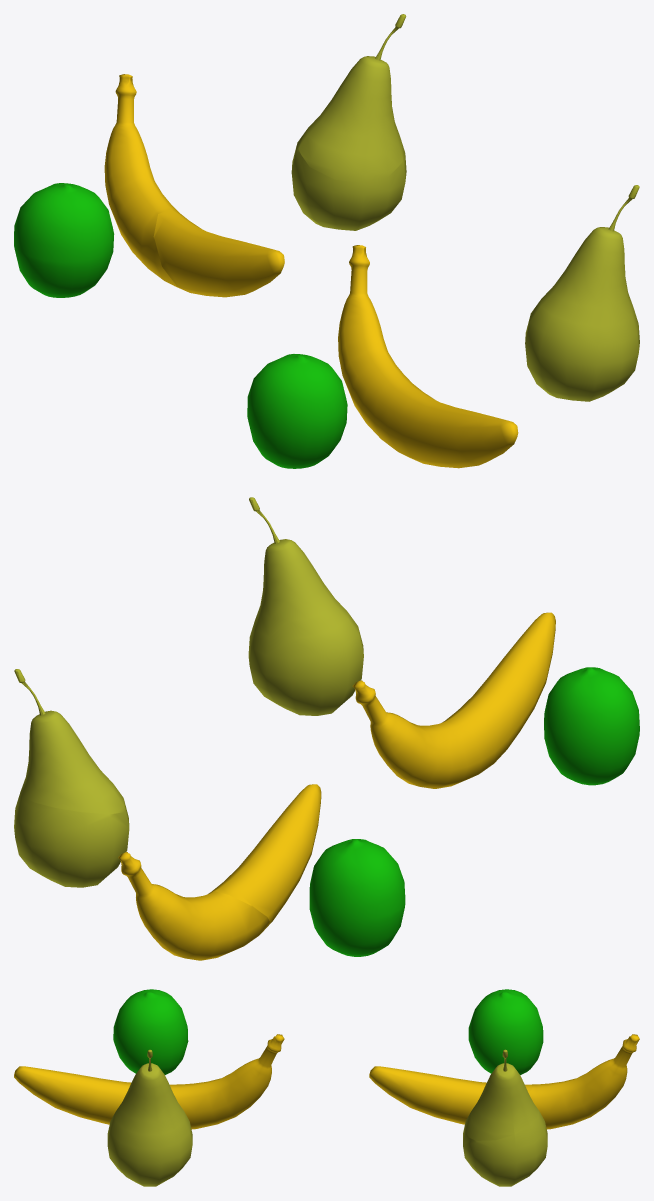
File: Fruits.FBX
3 renders of one model, top to bottom at view 1: azimuth 30°, elevation 25°; view 2: azimuth 150°, elevation 25°; view 3: azimuth 270°, elevation 25°, orthographic. The views are drawn at different scales.
Parts seen in each view (by area): view 1: pear, banana, lemon, pear Slice2, banana Slice2, banana Slice1, lemon Slice1, pear Slice1, lemon Slice2; view 2: pear, banana, lemon, pear Slice1, banana Slice1, pear Slice2, banana Slice2, lemon Slice1, lemon Slice2; view 3: banana, pear, lemon, banana Slice1, banana Slice2, pear Slice2, pear Slice1, lemon Slice1, lemon Slice2.
Part boxes in pixels (x1,y1,x2,y2): pear: (525, 185, 639, 401); banana: (338, 245, 518, 468); lemon: (247, 354, 347, 468); pear Slice2: (298, 14, 406, 183); banana Slice2: (153, 209, 284, 297); banana Slice1: (104, 74, 186, 291); lemon Slice1: (14, 183, 114, 261); pear Slice1: (291, 132, 406, 230); lemon Slice2: (14, 240, 113, 297); pear: (248, 497, 363, 715); banana: (352, 612, 555, 788); lemon: (544, 667, 639, 785); pear Slice1: (14, 792, 129, 887); banana Slice1: (118, 852, 270, 960); pear Slice2: (14, 669, 125, 814); banana Slice2: (210, 784, 321, 922); lemon Slice1: (309, 839, 405, 919); lemon Slice2: (309, 898, 405, 956); banana: (14, 1034, 284, 1129); pear: (107, 1049, 192, 1186); lemon: (113, 989, 188, 1074); banana Slice1: (529, 1034, 639, 1129); banana Slice2: (369, 1066, 532, 1124); pear Slice2: (464, 1049, 538, 1140); pear Slice1: (463, 1110, 547, 1186); lemon Slice1: (468, 989, 543, 1049); lemon Slice2: (468, 1034, 543, 1074).
Size of the model in its own units: 62 by 32.97 by 115.
